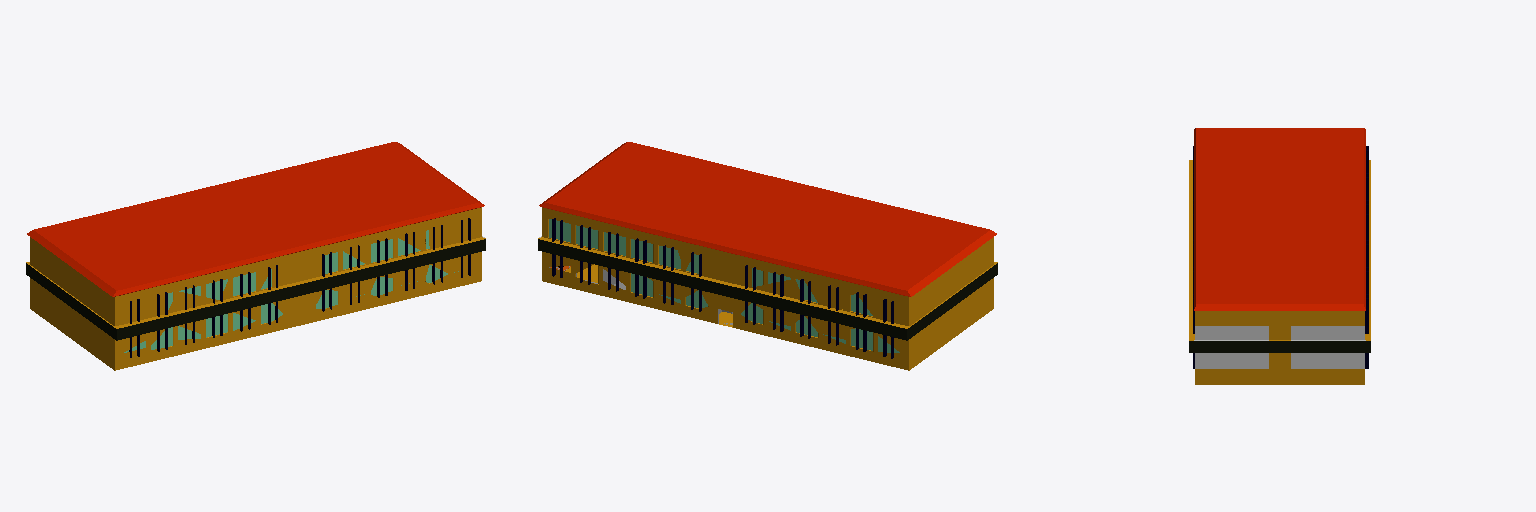
The picture shows the model from 3 angles: view 1: azimuth 30°, elevation 25°; view 2: azimuth 150°, elevation 25°; view 3: azimuth 270°, elevation 25°; orthographic projection.
Parts seen in each view (by area): view 1: Cube; view 2: Cube; view 3: Cube.
Part boxes in pixels (x1,y1,x2,y2): Cube: (26, 142, 485, 370); Cube: (538, 142, 997, 370); Cube: (1189, 128, 1370, 384).
Bounding box in the file's own units: 50.81 × 10.36 × 21.46.